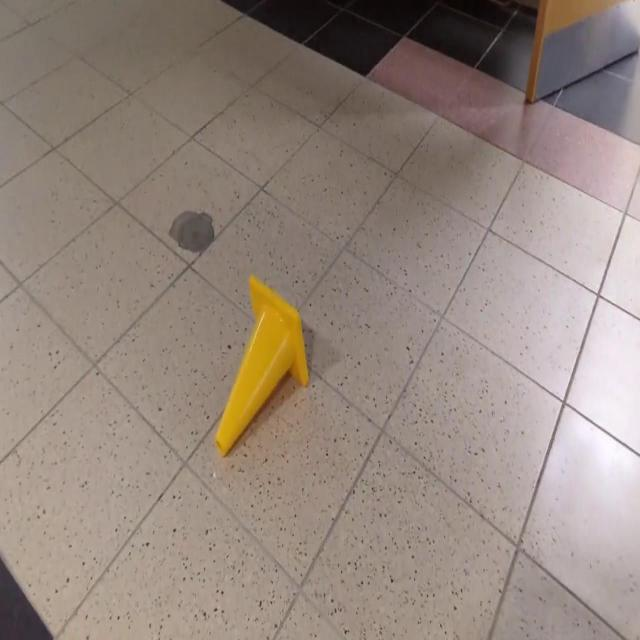frc_cone: (214, 274, 310, 457)
